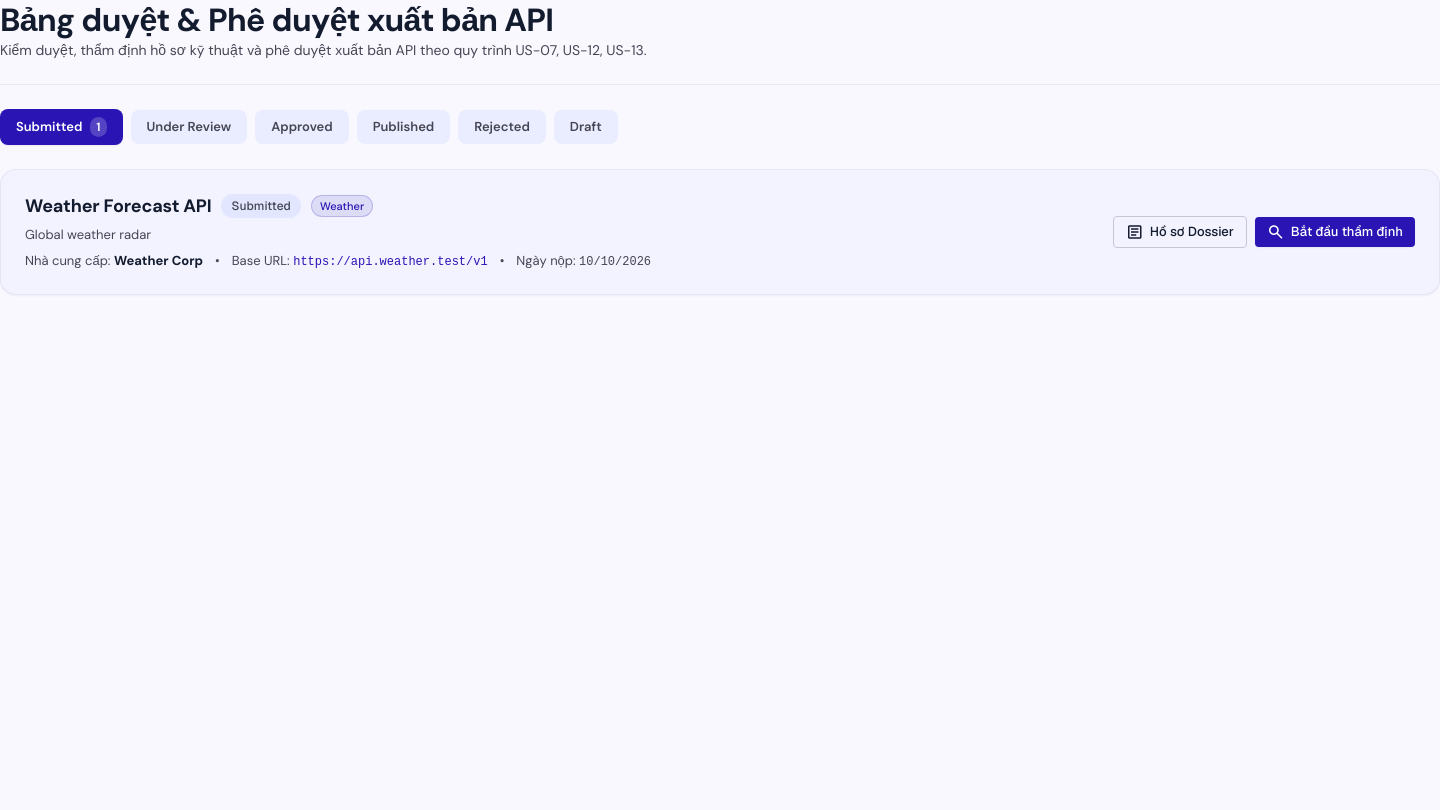
Test: Admin Console Pages session isolation tests (Admin A -> Admin B) › Finding F3: Admin dossier DNS verification tests › displays invalid/missing expiry error when verificationExpiresAt is missing or invalid
Expected: the heading "Weather Forecast API" is shown, [25,194,212,218]
Click the button "Hồ sơ Dossier". click: (1180, 232)
box: [1113,216,1247,248]
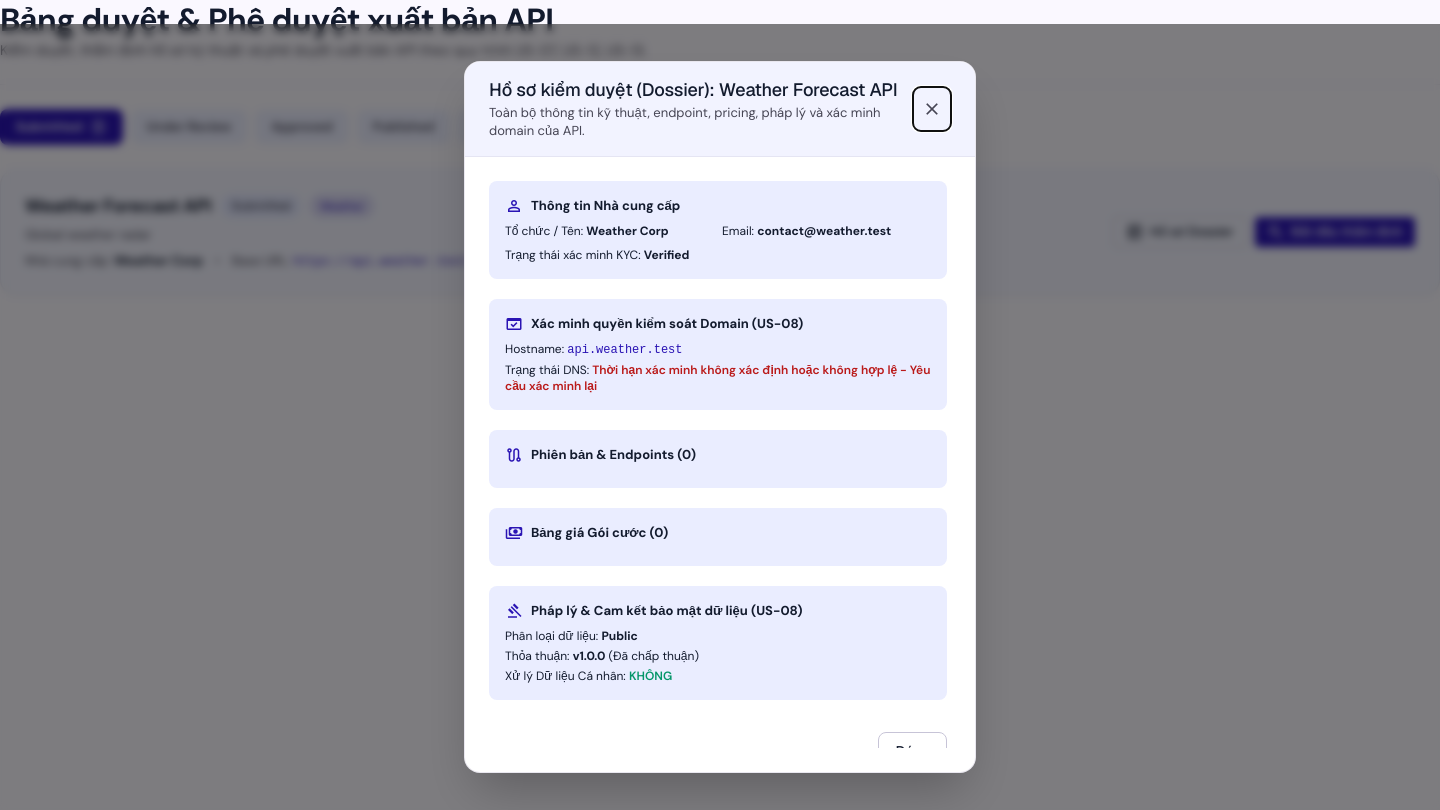
Expected: the heading "Xác minh quyền kiểm soát Domain (US-08)" is shown, [505,313,803,335]
Expected: the text "Thời hạn xác minh không xác định hoặc không hợp lệ" is shown, [505,362,930,394]
